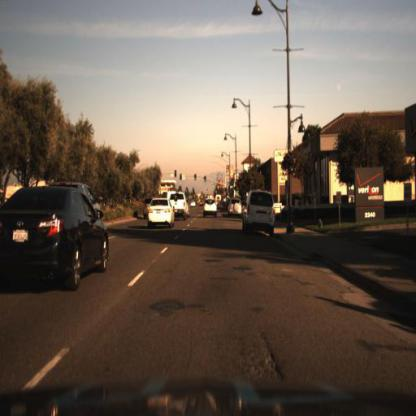car: (2, 180, 111, 292), (243, 189, 278, 232), (148, 197, 173, 228), (171, 192, 189, 220), (227, 197, 245, 219), (229, 198, 247, 218), (204, 197, 219, 220)
